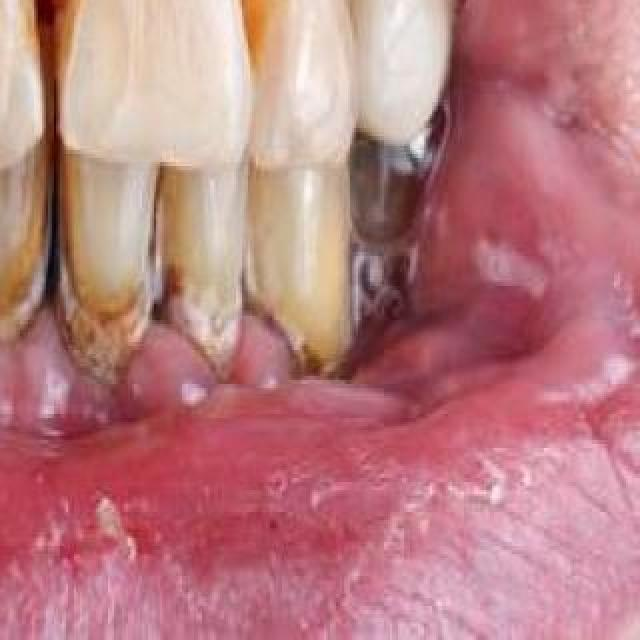calculus: (245, 166, 353, 372), (42, 181, 154, 341), (168, 253, 266, 391), (0, 176, 54, 350)
stains: (48, 149, 156, 385), (14, 0, 100, 124), (0, 166, 52, 346), (204, 0, 310, 66)
